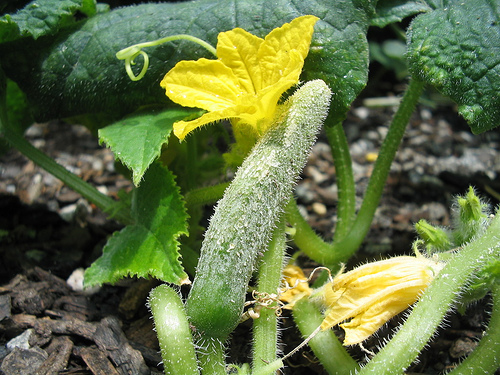cucumber: (186, 75, 333, 341)
